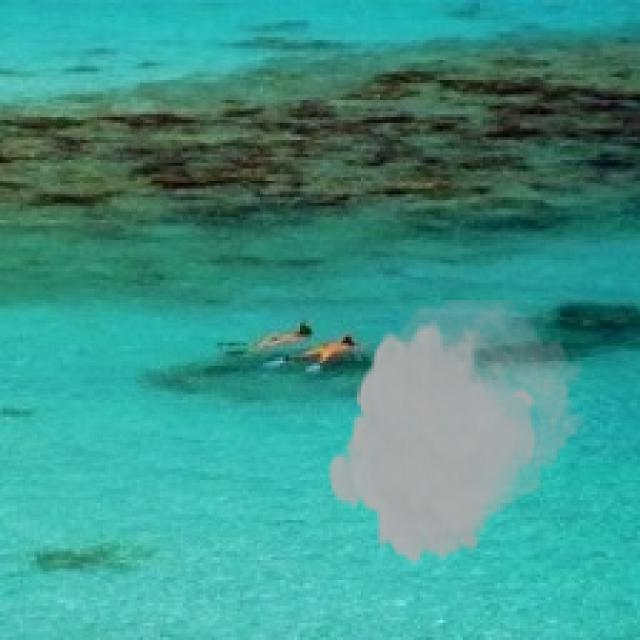smoke: (326, 300, 591, 569)
